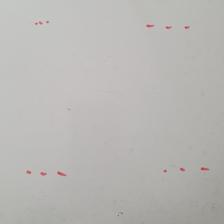omitted-detail: (146, 23, 190, 31), (26, 169, 66, 176), (164, 167, 210, 172), (33, 20, 49, 26)
